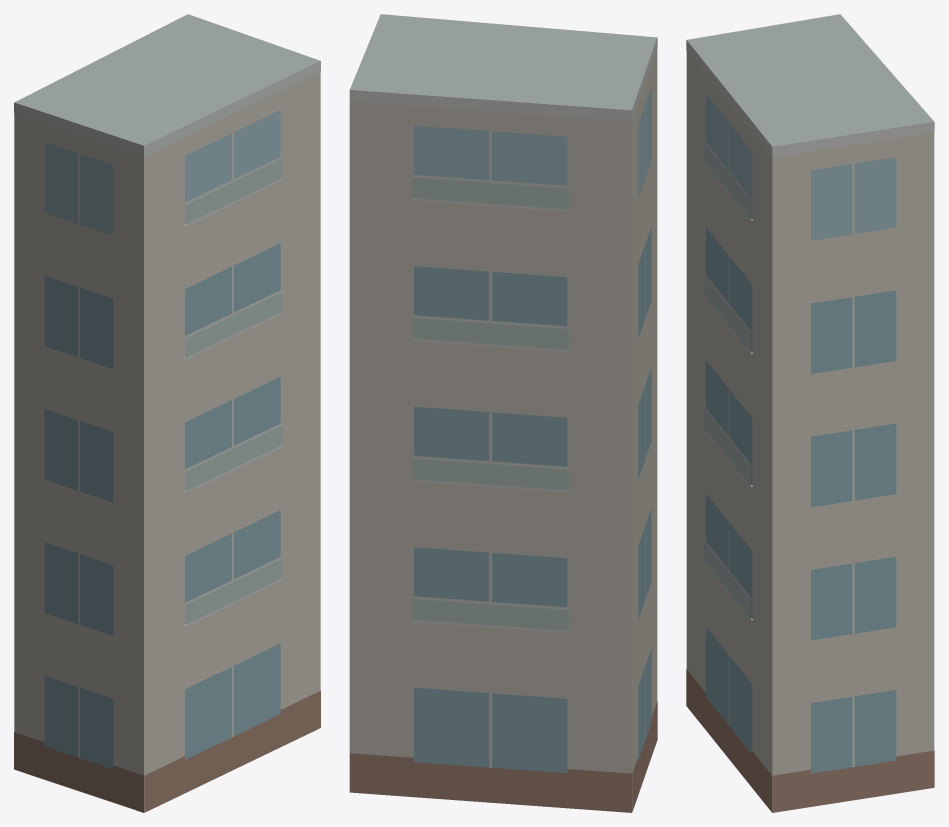
The model's file is survey-upis-32589186.glb.
3 renders of one model, left to right at view 1: azimuth 30°, elevation 25°; view 2: azimuth 150°, elevation 25°; view 3: azimuth 270°, elevation 25°, orthographic. The views are drawn at different scales.
Parts seen in each view (by area): view 1: survey-upis-32589186.tmp; view 2: survey-upis-32589186.tmp; view 3: survey-upis-32589186.tmp.
Boxes of the visible parts, x1=… form: survey-upis-32589186.tmp: x1=14, y1=14, x2=320, y2=812; survey-upis-32589186.tmp: x1=349, y1=14, x2=657, y2=812; survey-upis-32589186.tmp: x1=686, y1=14, x2=934, y2=812.
Bounding box in the file's own units: 6.53 × 15.25 × 5.15.
